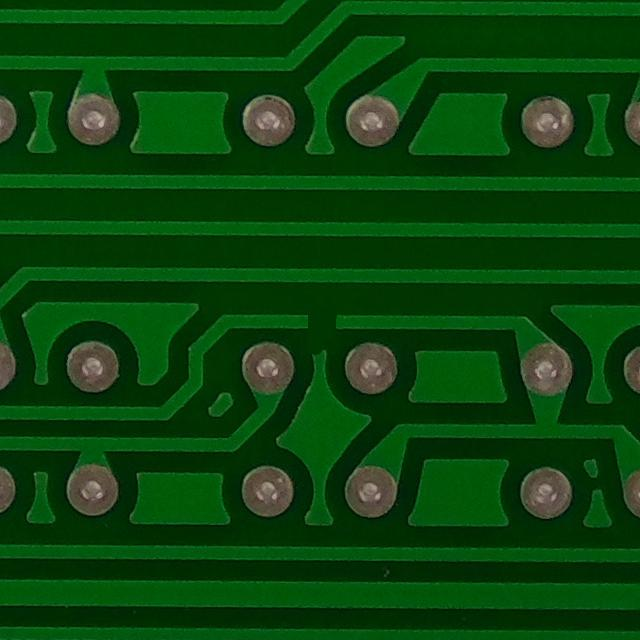open_circuit: (294, 300, 347, 340)
